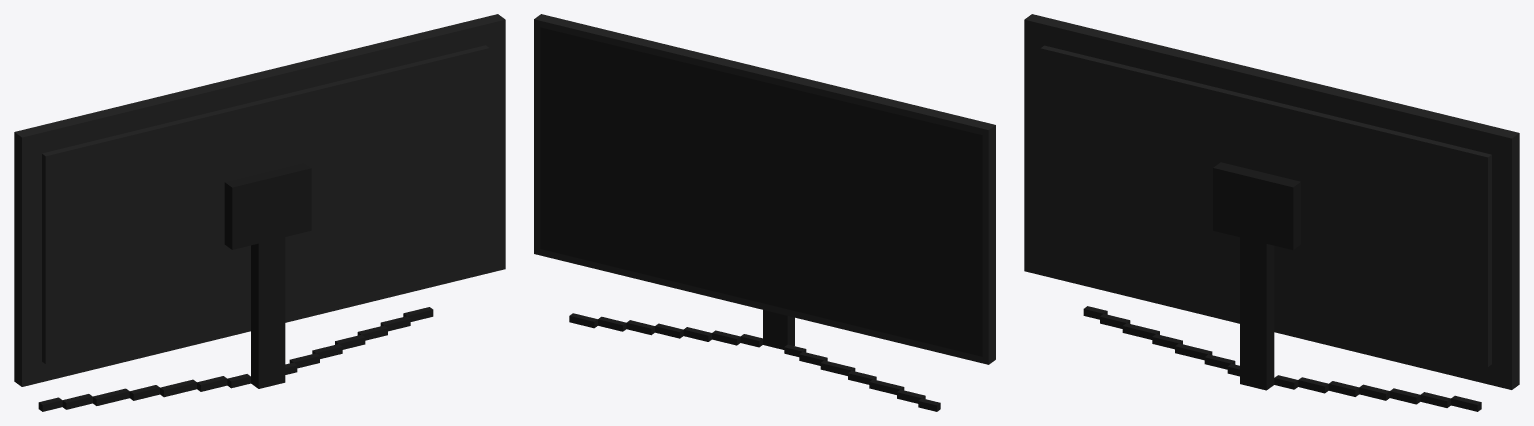
File: kreslo.obj
3 views of the same model, side by side, from view 1: azimuth 30°, elevation 25°; view 2: azimuth 150°, elevation 25°; view 3: azimuth 330°, elevation 25° (orthographic). The views are drawn at different scales.
Size of the model in its own units: 7.3 by 4.3 by 0.9.
Materials: 1 (1 with a texture image).
